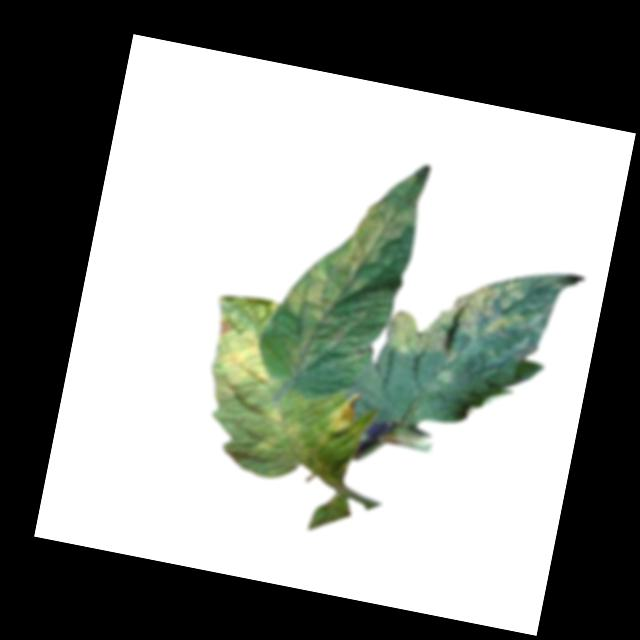Leaf_Mold: (281, 181, 415, 337), (383, 252, 533, 376), (207, 317, 283, 408), (253, 403, 309, 459), (325, 385, 365, 442)
